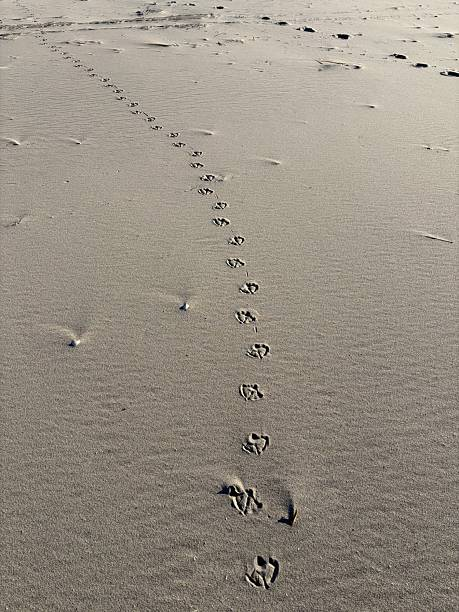animal_foot_print: (220, 484, 262, 515), (246, 555, 279, 588), (242, 433, 269, 455), (278, 499, 297, 526), (239, 383, 263, 400), (246, 343, 269, 358), (235, 310, 256, 323), (239, 282, 258, 294), (226, 258, 245, 268), (228, 235, 245, 246), (212, 217, 229, 226), (213, 201, 227, 209), (200, 174, 216, 181), (198, 187, 213, 194), (144, 113, 155, 121), (190, 162, 203, 168), (173, 141, 185, 147), (190, 150, 202, 156), (168, 132, 179, 137), (128, 102, 137, 107), (151, 125, 162, 129), (116, 96, 125, 100)
